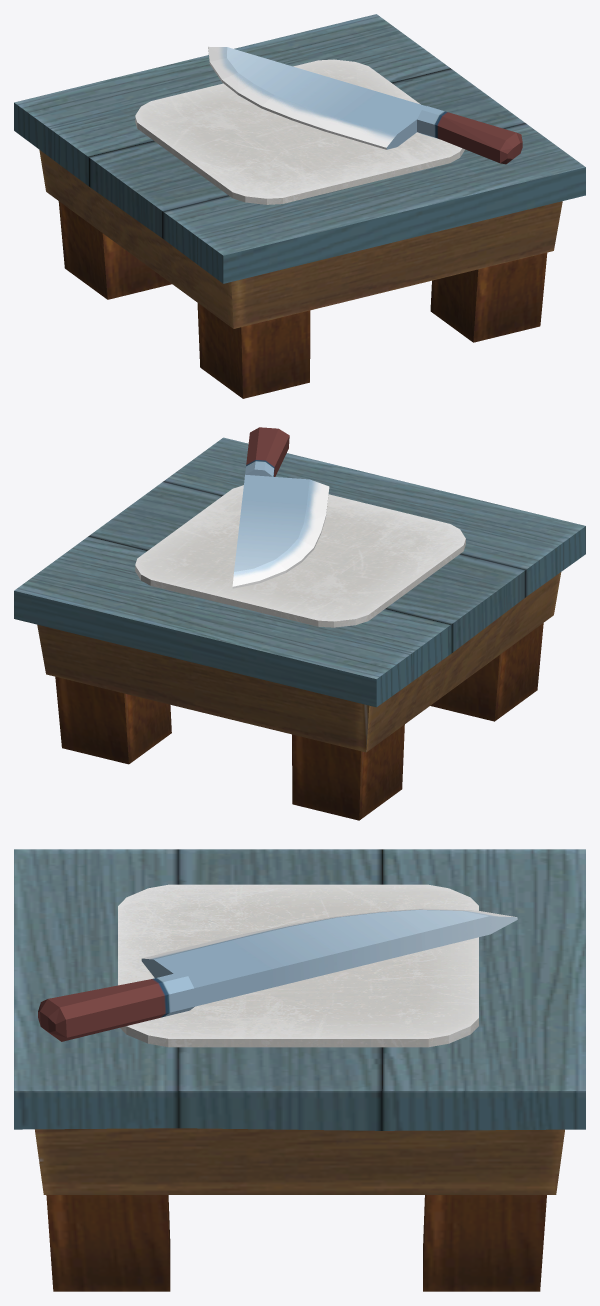
File: ChoppingBoard_Side.obj
3 views of the same model, one above another, from view 1: azimuth 30°, elevation 25°; view 2: azimuth 150°, elevation 25°; view 3: azimuth 270°, elevation 25° (orthographic). The views are drawn at different scales.
Parts seen in each view (by area): view 1: Worktop, ChoppingBoard2, Knife; view 2: Worktop, ChoppingBoard2, Knife; view 3: Worktop, ChoppingBoard2, Knife.
Boxes of the visible parts, <box> form: Worktop: <box>14,14,585,398</box>; ChoppingBoard2: <box>135,59,464,204</box>; Knife: <box>208,46,522,164</box>; Worktop: <box>14,437,585,820</box>; ChoppingBoard2: <box>135,485,465,627</box>; Knife: <box>232,427,329,588</box>; Worktop: <box>14,849,585,1291</box>; ChoppingBoard2: <box>118,884,478,1047</box>; Knife: <box>38,908,517,1041</box>.
Bounding box in the file's own units: 1.2 × 0.6324 × 1.2.
Materials: 3 (3 with a texture image).
